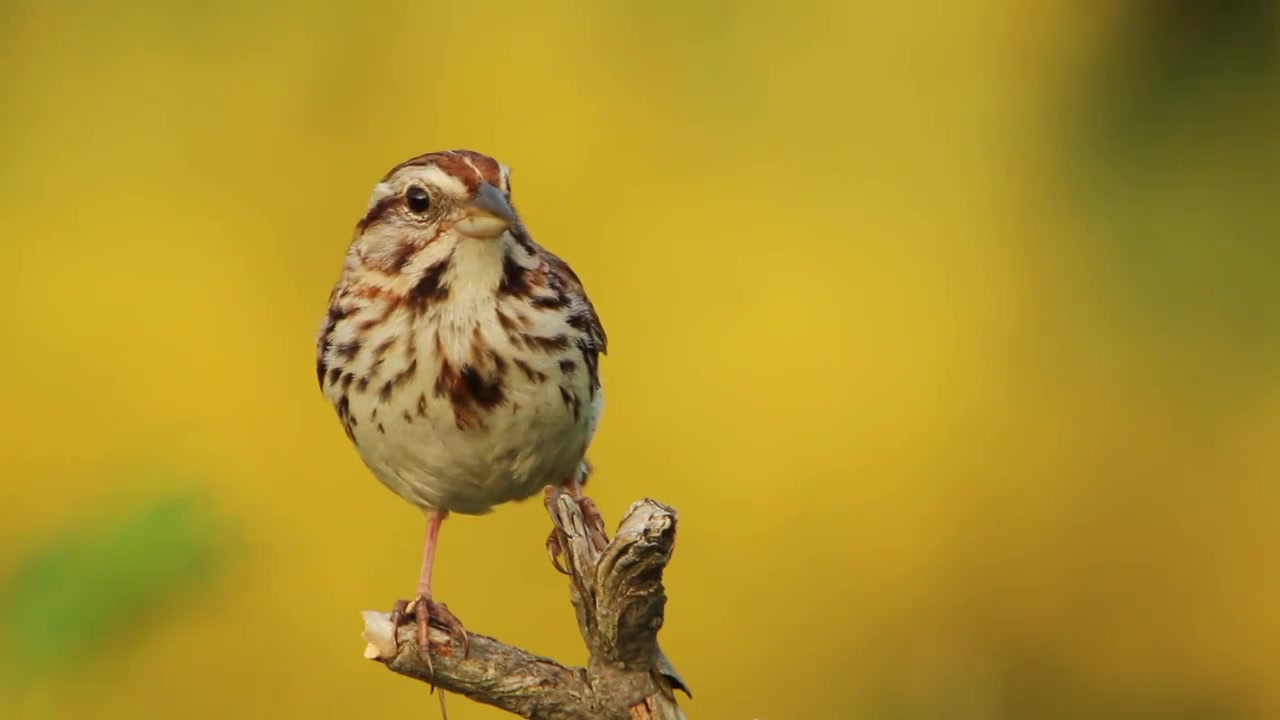bird: (315, 144, 612, 645)
